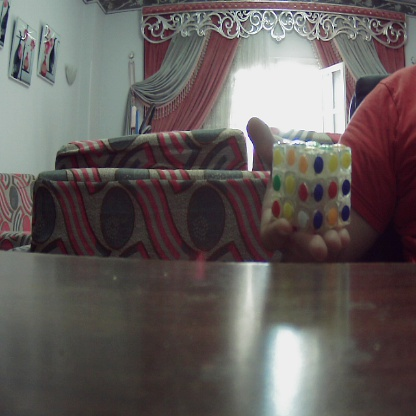Rubix Cube: (265, 143, 353, 230)
